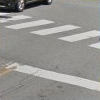crosswalk: (0, 14, 100, 48)
